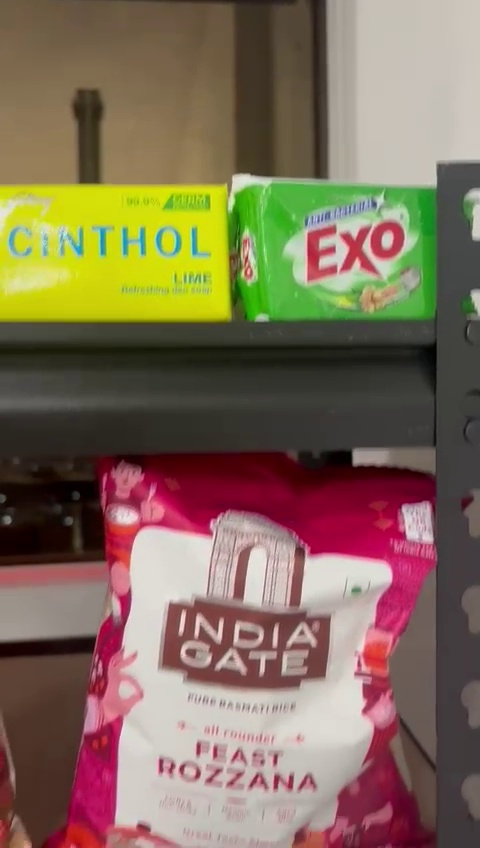Cinthol: (3, 188, 230, 315)
Exo Soap: (238, 181, 431, 316)
India Gate Feast Rozzana: (91, 457, 438, 848)
